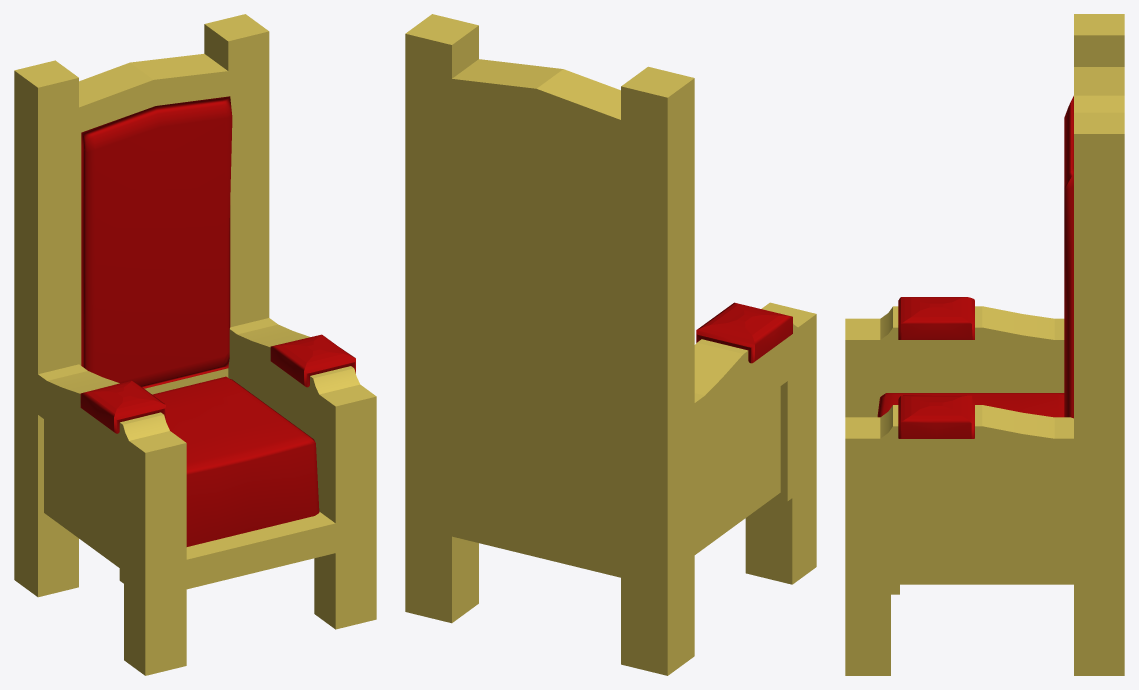
File: throne_main_hall.fbx
3 views of the same model, side by side, from view 1: azimuth 30°, elevation 25°; view 2: azimuth 150°, elevation 25°; view 3: azimuth 270°, elevation 25° (orthographic). The views are drawn at different scales.
Parts seen in each view (by area): view 1: golden_throne, cushion; view 2: golden_throne, cushion; view 3: golden_throne, cushion.
Boxes of the visible parts, x1,y1,x2,y2 form: golden_throne: [14, 14, 376, 675]; cushion: [80, 96, 355, 546]; golden_throne: [405, 14, 816, 675]; cushion: [696, 302, 792, 363]; golden_throne: [845, 14, 1124, 675]; cushion: [877, 96, 1073, 438].
Size of the model in its own units: 426 by 857 by 400.
